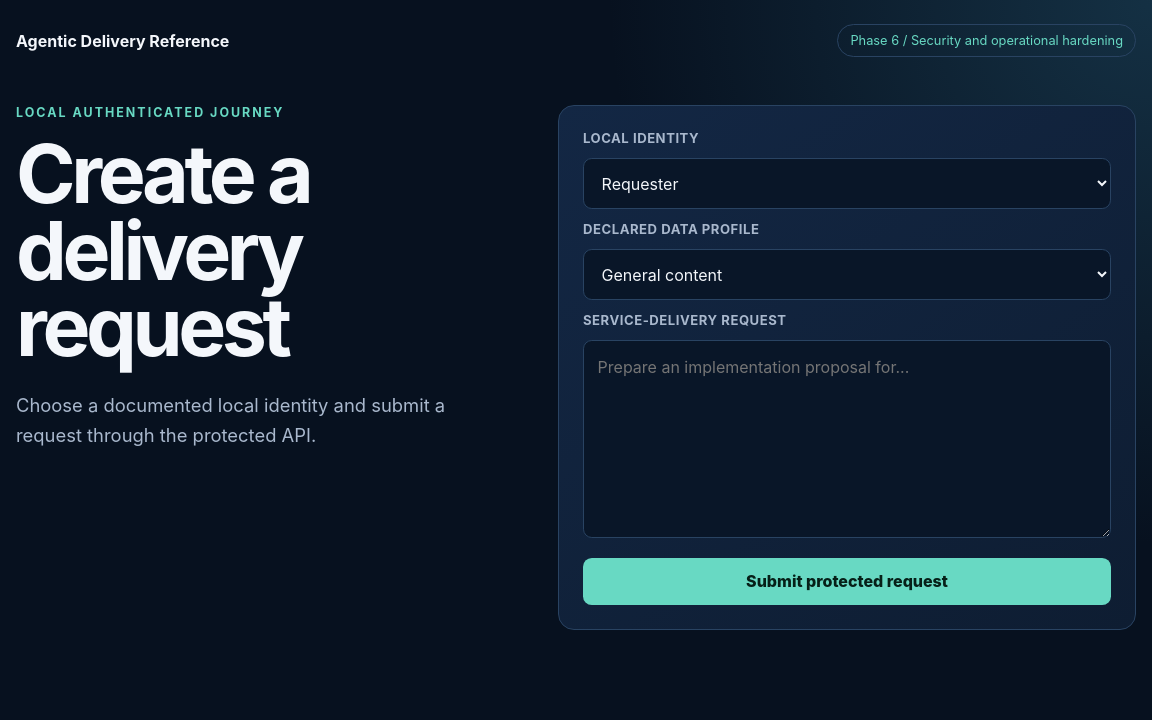
governed delivery request page › handles malformed create problems and unavailable transports
This screenshot has width=1152, height=720.
Type "Prepare a delivery proposal" into the text box labelled "Service-delivery request" at (847, 439), box 583,340 -> 1111,538
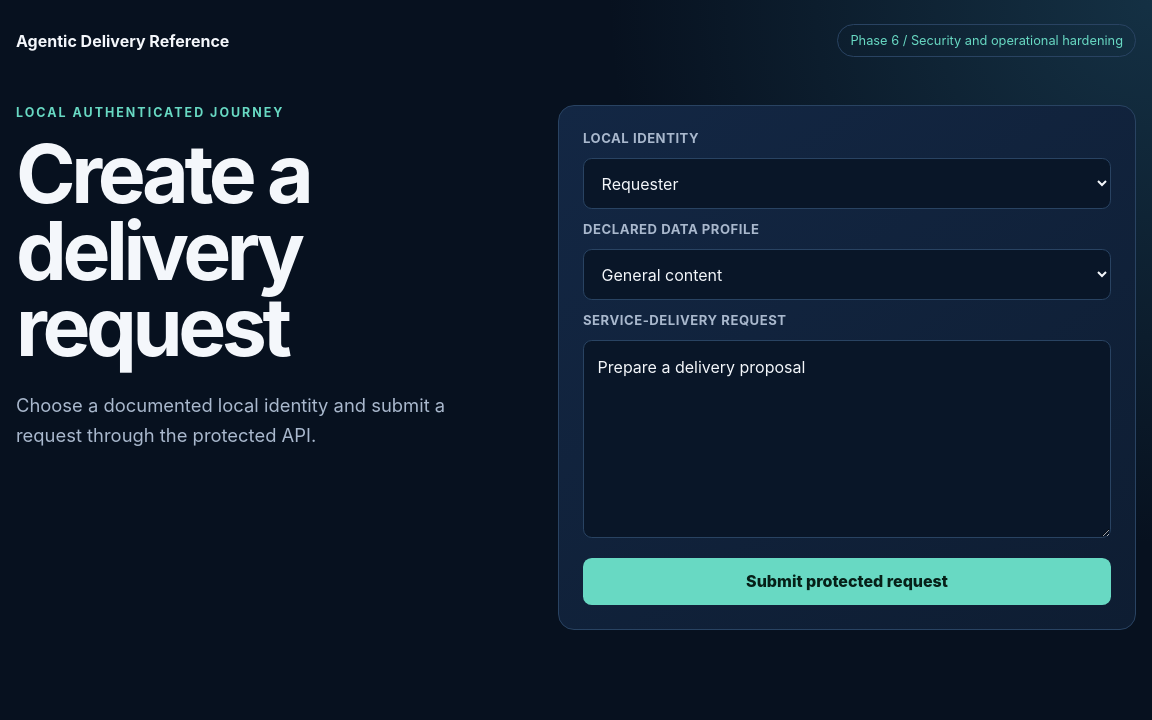
Submit the form, box 558,105 -> 1136,630
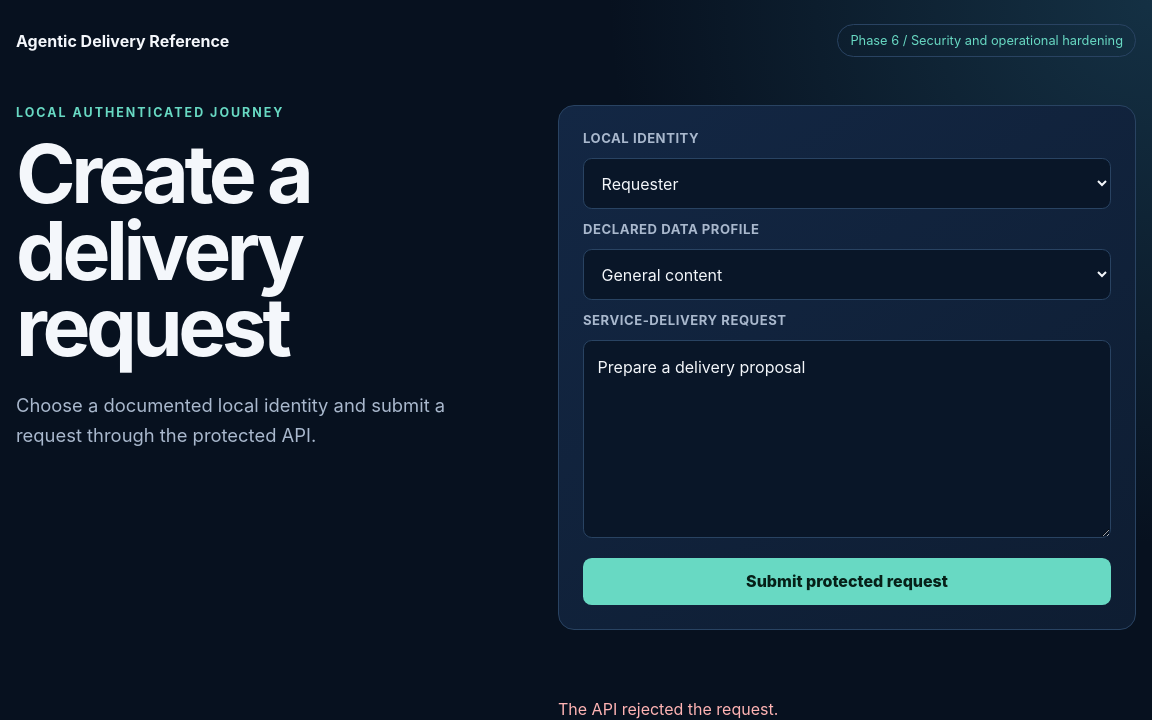
expect the text "The API rejected the request." is shown: met, box 558,699 -> 778,719
Replace the text in the text box labelled "Service-delivery request" with "Prepare one more delivery proposal" at (847, 439), box 583,340 -> 1111,538
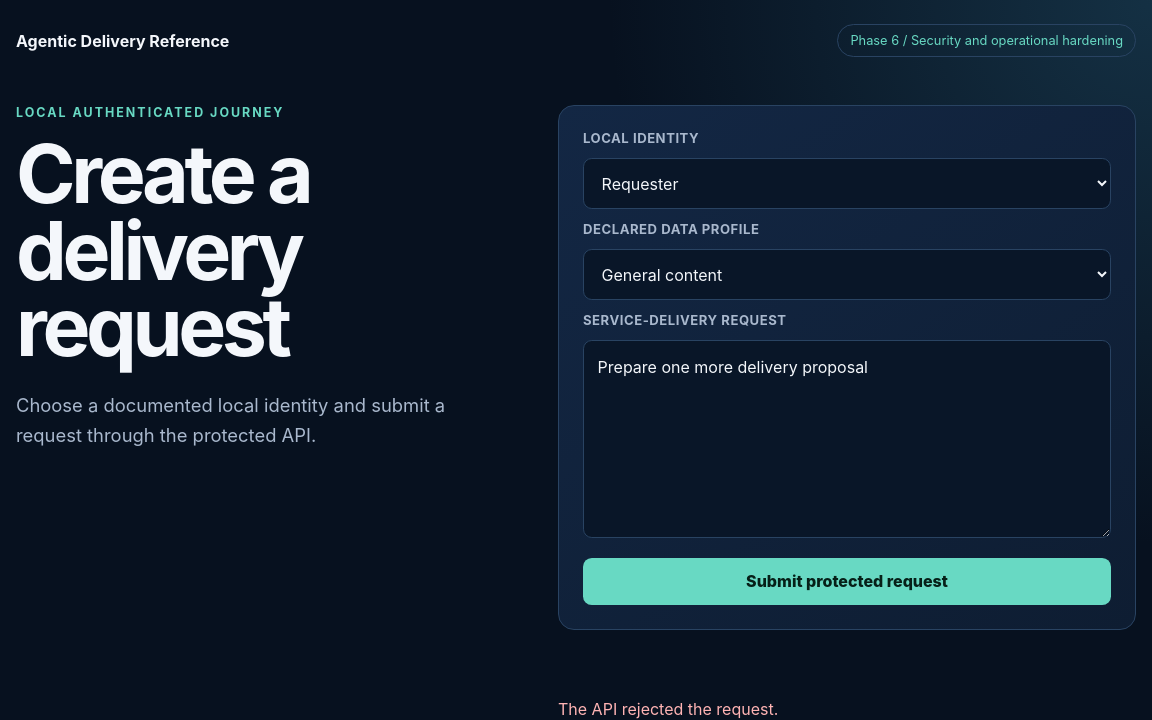
Submit the form, box 558,105 -> 1136,630
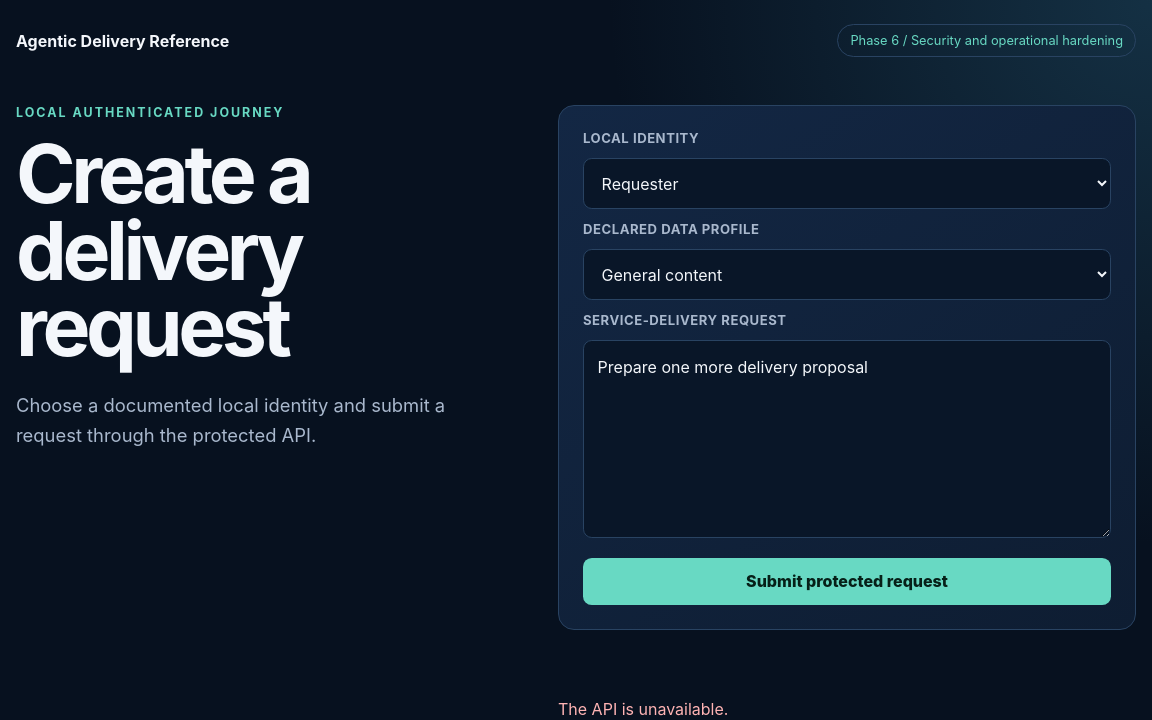
expect the text "The API is unavailable." is shown: met, box 558,699 -> 728,719
